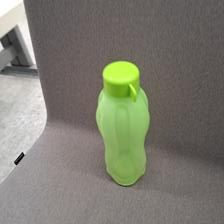bottle: (86, 57, 155, 188)
